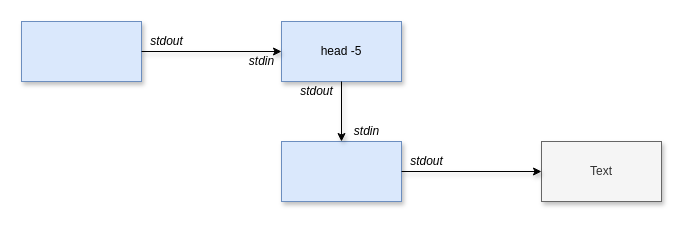
This 685x226 diagram has some shape labels left out. The centre of each missing label's shape, as x and y in pixels:
cat FILE: [82,52]
shuf: [342,172]
